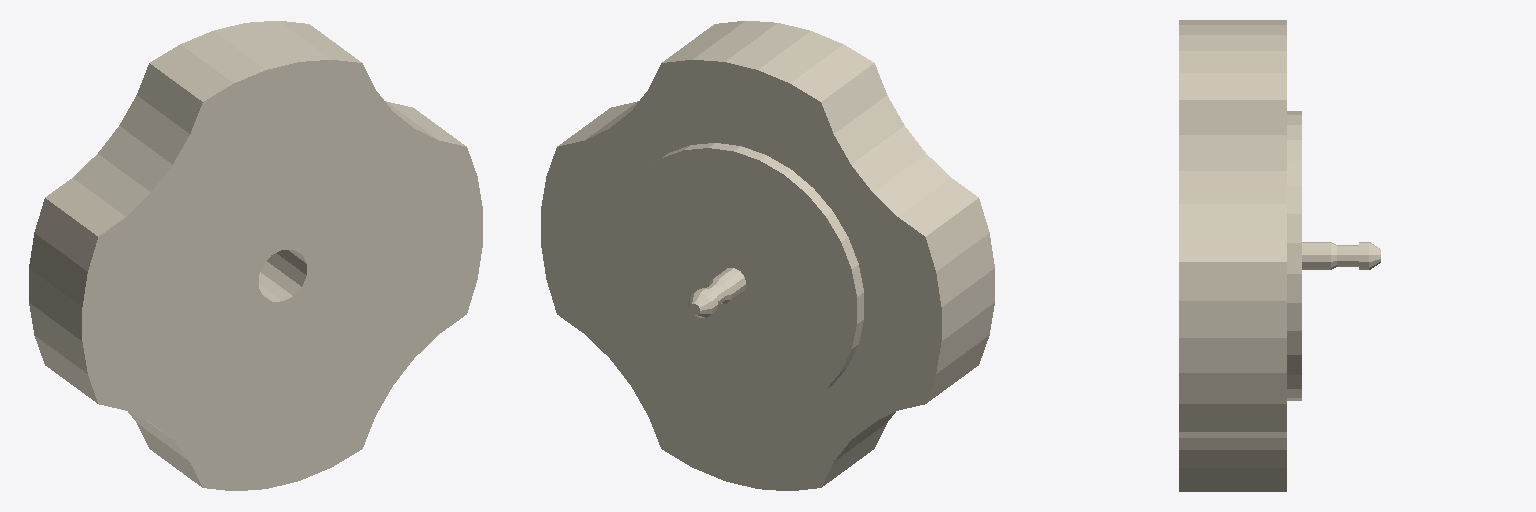
URDF robot description (Disposable):
<?xml version="1.0" encoding="utf-8"?>
<!-- This URDF was automatically created by SolidWorks to URDF Exporter! Originally created by [author] ([email redacted]) 
     Commit Version: 1.6.0-1-g15f4949  Build Version: 1.6.7594.29634
     For more information, please see http://wiki.ros.org/sw_urdf_exporter -->
<robot
  name="Disposable">
  <link
    name="base_link">
    <inertial>
      <origin
        xyz="-3.5685E-17 0.0080079 -1.3904E-16"
        rpy="0 0 0" />
      <mass
        value="0.00075248" />
      <inertia
        ixx="1.9501E-07"
        ixy="-1.2971E-22"
        ixz="1.9509E-21"
        iyy="3.5706E-07"
        iyz="-1.4915E-23"
        izz="1.9501E-07" />
    </inertial>
    <visual>
      <origin
        xyz="0 0 0"
        rpy="0 0 0" />
      <geometry>
        <mesh
          filename="package://Disposable/meshes/base_link.STL" />
      </geometry>
      <material
        name="">
        <color
          rgba="0.84314 0.81569 0.75294 1" />
      </material>
    </visual>
    <collision>
      <origin
        xyz="0 0 0"
        rpy="0 0 0" />
      <geometry>
        <mesh
          filename="package://Disposable/meshes/base_link.STL" />
      </geometry>
    </collision>
  </link>
</robot>

--- Facts derived from the render (not from the file) ---
Views: 3 orthographic renders of the robot side by side, from view 1: azimuth 30°, elevation 25°; view 2: azimuth 150°, elevation 25°; view 3: azimuth 270°, elevation 25°.
Model Disposable with 1 links and 0 joints (none), rooted at base_link, posed every joint at zero.
Visible links, largest first — view 1: base_link; view 2: base_link; view 3: base_link.
Boxes of the visible links, x1=… form: base_link: x1=29, y1=21, x2=482, y2=490; base_link: x1=541, y1=21, x2=994, y2=490; base_link: x1=1179, y1=20, x2=1380, y2=491.
Bounding box of the posed robot: 0.0648 × 0.028 × 0.0648 m (x, y, z).
Meshes: 1 distinct files referenced, 1 mesh visuals loaded (1 binary STL).